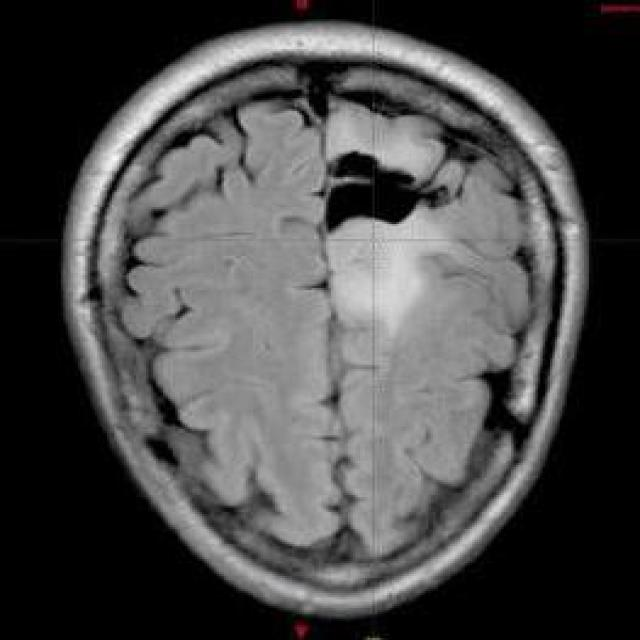Tumor-Cell: (324, 94, 508, 327)
